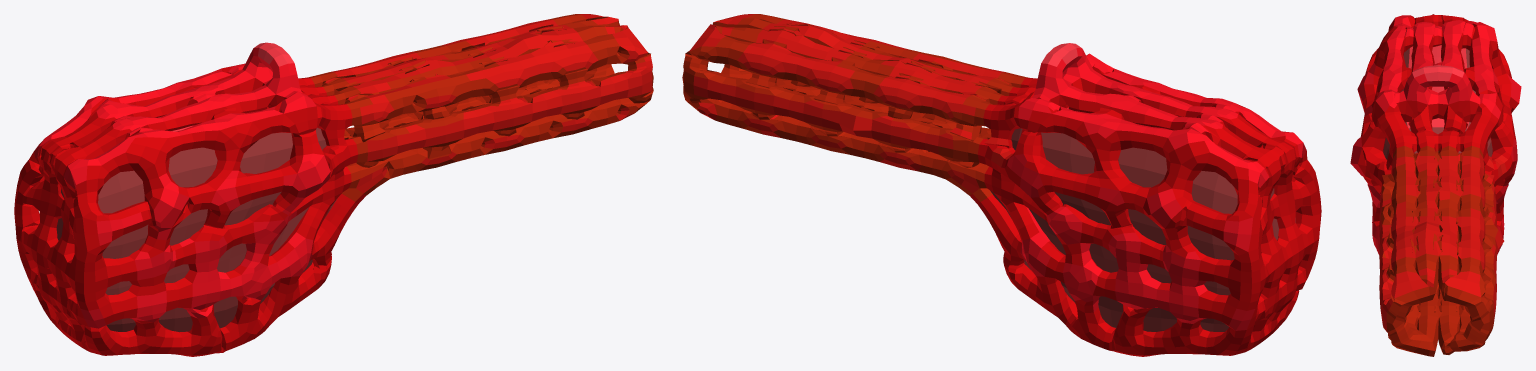
File: Flesh gun.fbx
The picture shows the model from 3 angles, left to right: view 1: azimuth 30°, elevation 25°; view 2: azimuth 150°, elevation 25°; view 3: azimuth 270°, elevation 25°; orthographic projection. The views are drawn at different scales.
Parts seen in each view (by area): view 1: Cube; view 2: Cube; view 3: Cube.
Boxes of the visible parts, left/top/right/bottom form: Cube: left=14, top=14, right=653, bottom=356; Cube: left=682, top=14, right=1321, bottom=356; Cube: left=1350, top=14, right=1521, bottom=356.
Size of the model in its own units: 1269 by 566 by 340.
